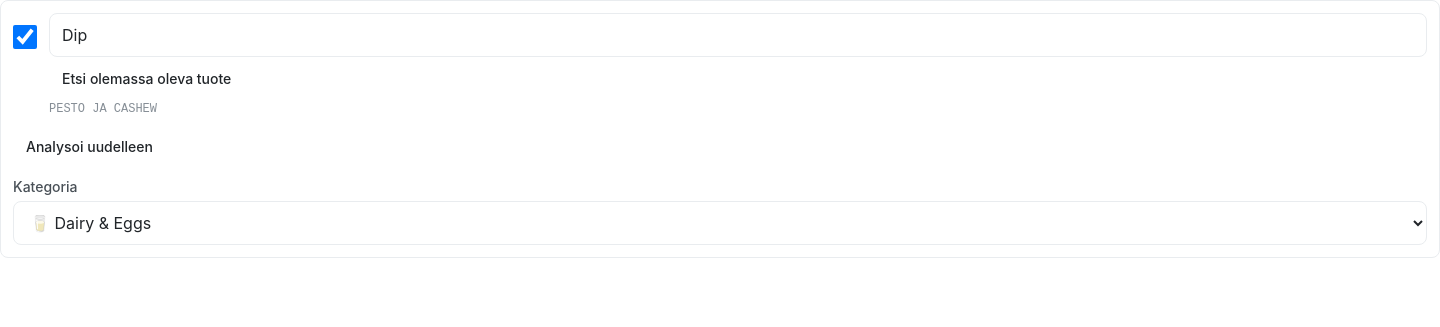
display language (Post-MVP frontier item 13, phase 3) › shows the re-analyse control in Finnish
Click the button "Analysoi uudelleen".
click(89, 147)  # box [13,129,166,165]
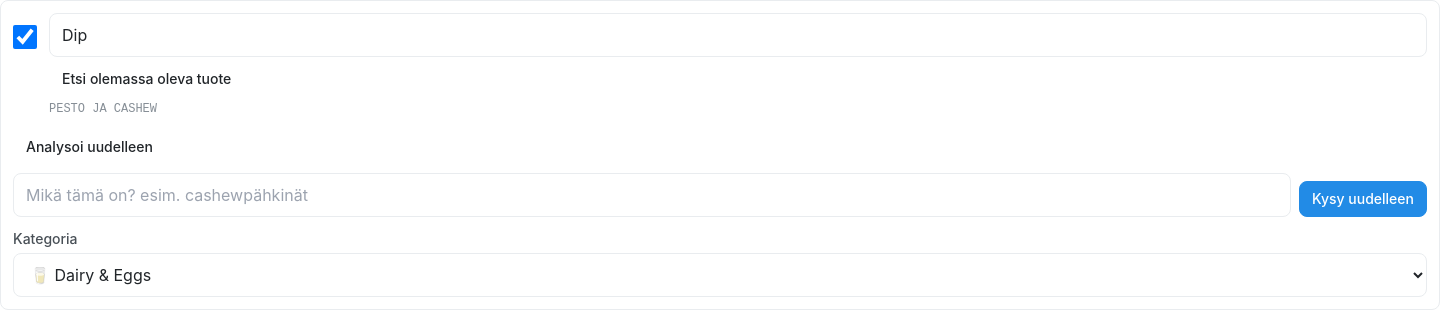
expect the field with placeholder "Mikä tämä on? esim. cashewpähkinät" is shown: met, box [13,173,1291,217]
expect the button "Kysy uudelleen" is shown: met, box [1299,181,1427,217]
